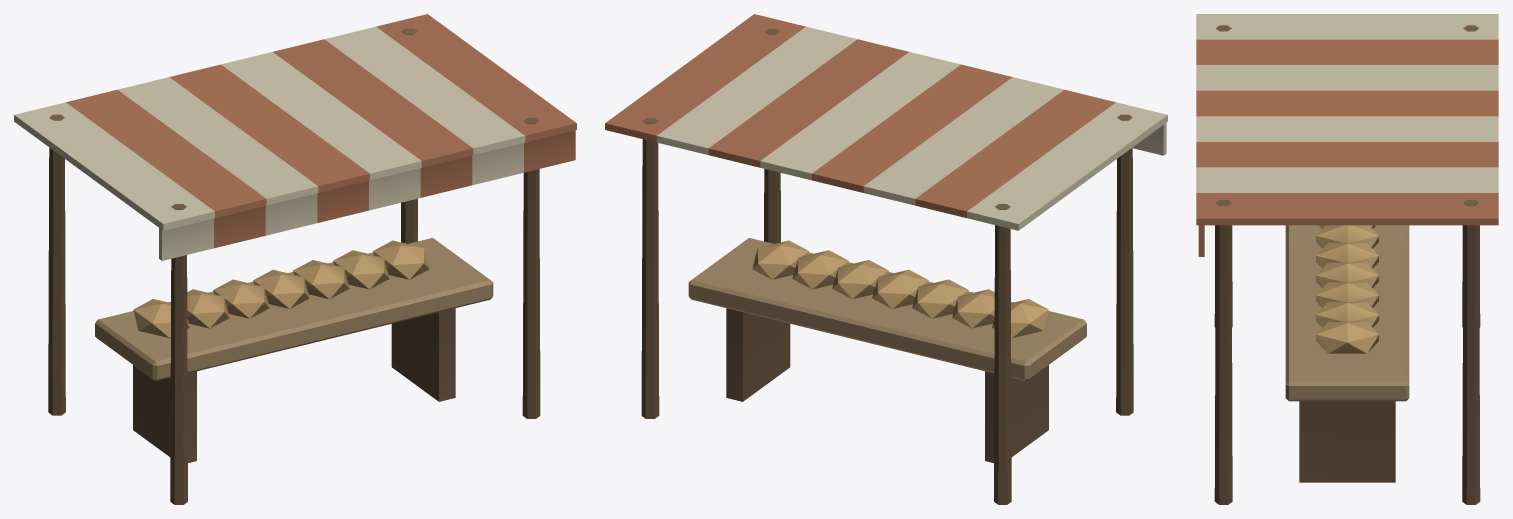
Rendered from market.glb.
3 views of the same model, side by side, from view 1: azimuth 30°, elevation 25°; view 2: azimuth 150°, elevation 25°; view 3: azimuth 270°, elevation 25° (orthographic).
Visible parts, largest first — view 1: market; view 2: market; view 3: market.
Boxes of the visible parts, x1,y1,x2,y2 form: market: [14, 14, 576, 504]; market: [605, 14, 1167, 504]; market: [1196, 14, 1498, 504].
Bounding box in the file's own units: 3.52 × 2.4 × 2.2.
